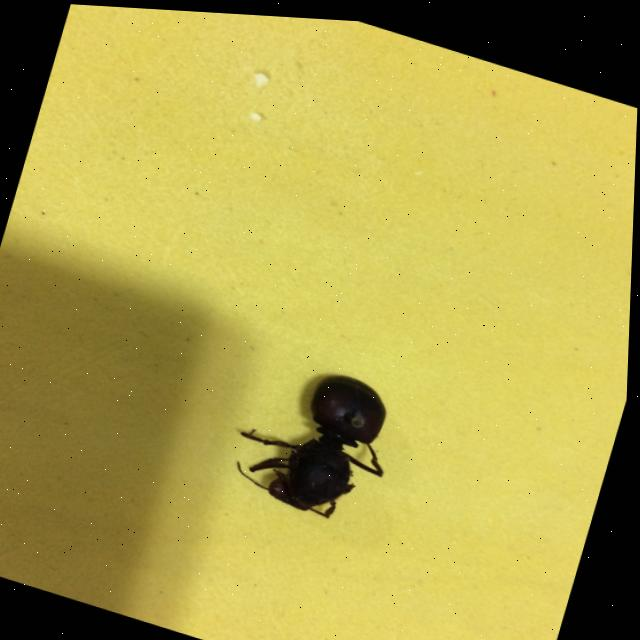Dead-Female-Dealate: (227, 344, 411, 529)
